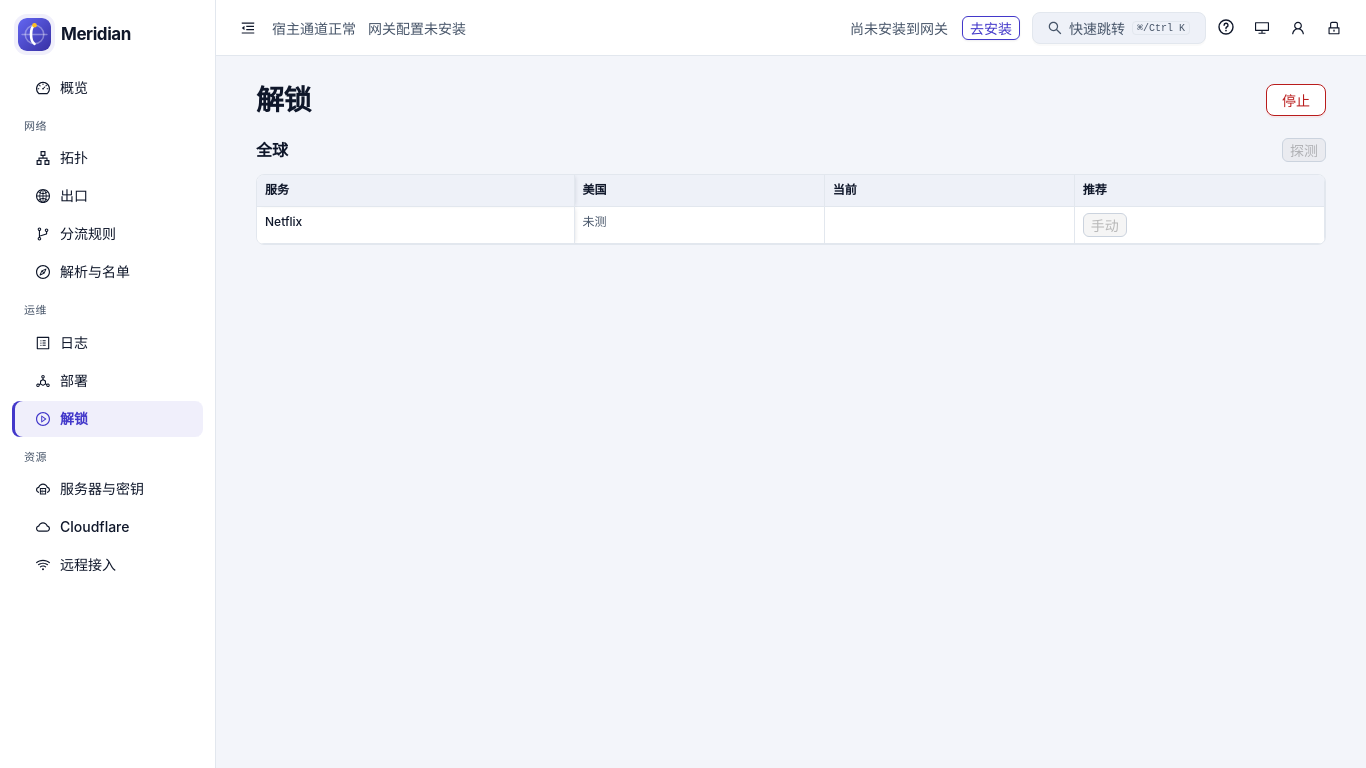
Test case: unlock polling › an older running answer arriving after the stop's fresh answer is dropped and does not restart polling
This screenshot has width=1366, height=768.
What coordinates should you click on to do the following:
click the button "停止"
I would click on:
 (1296, 100)
Its box is [1266,84,1326,116].
Wait 6020 ms
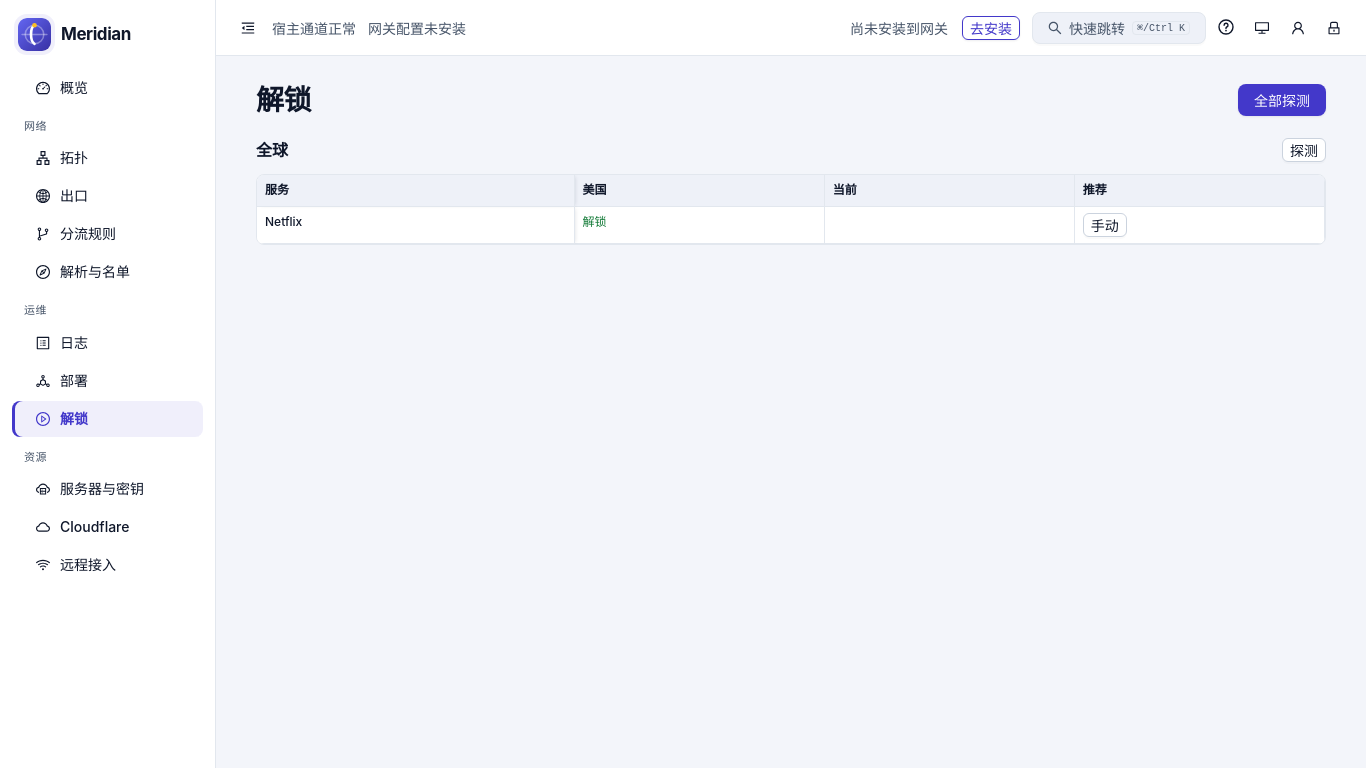
Expected: the button "停止" is gone
Expected: the button "全部探测" is shown, [1238,84,1326,116]
